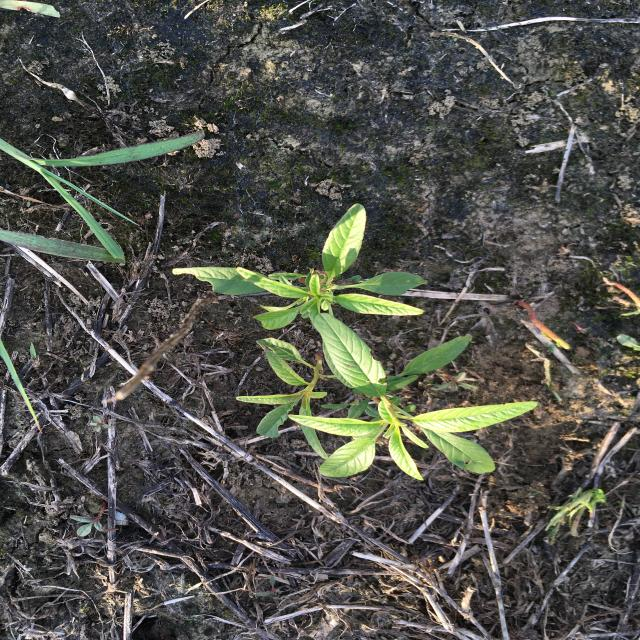Waterhemp: (170, 202, 540, 483)
